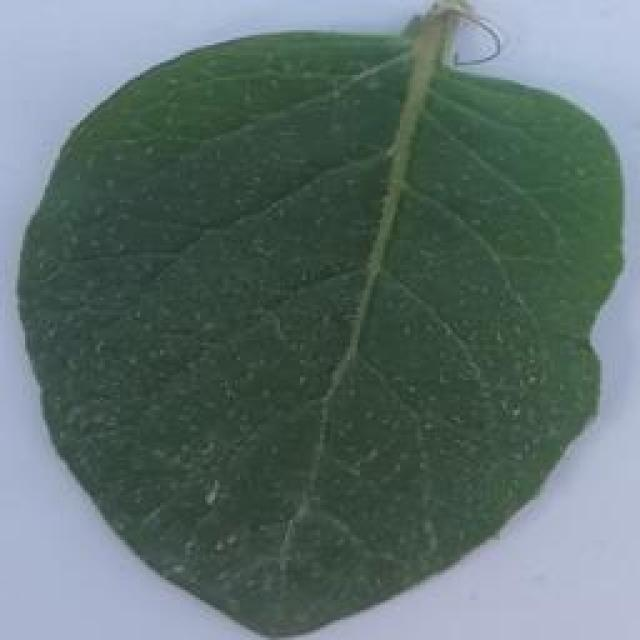Potato_Healthy: (16, 22, 616, 640)
